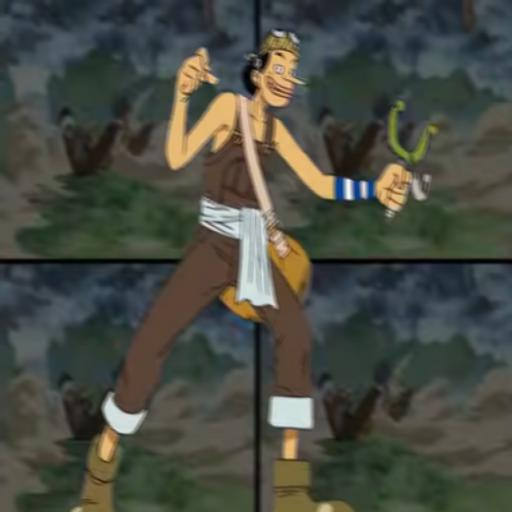Usopp: (68, 26, 453, 512)
